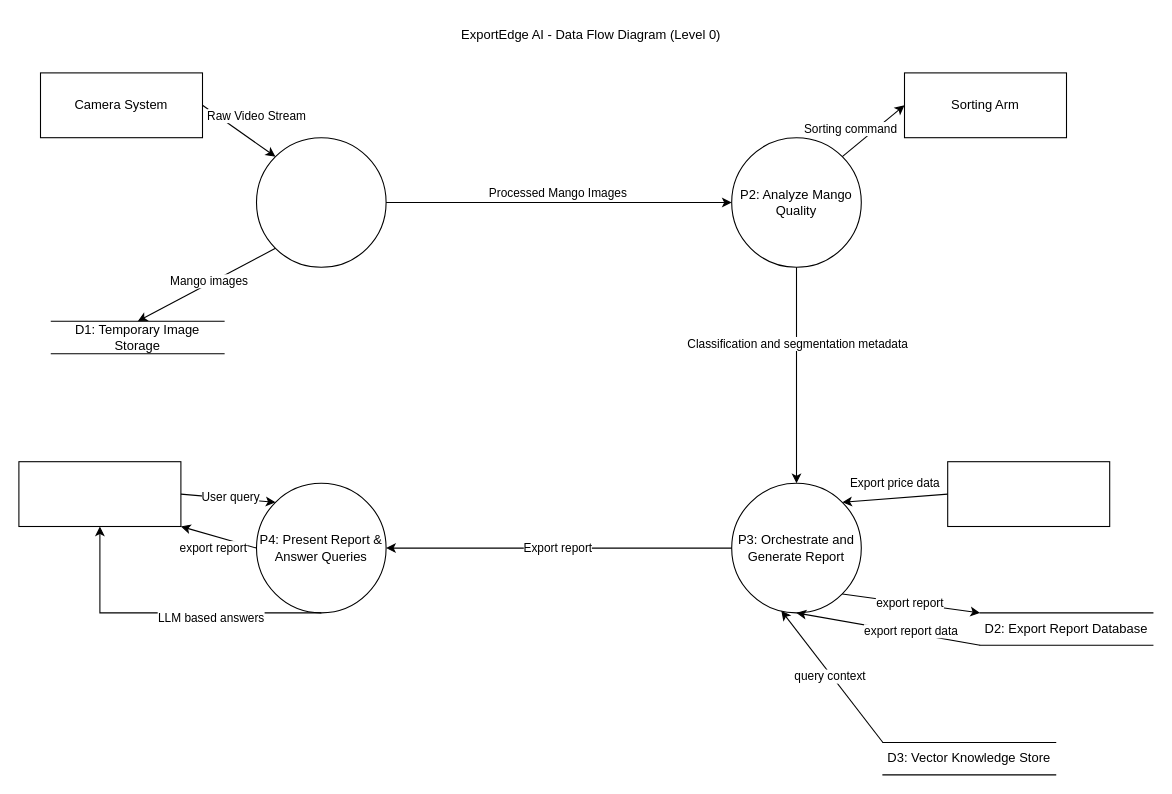
This 1172x794 diagram has some shape labels left out. The shapes that lost their labels are listed below. From the top down, each one's centre as x and y in pixels, then its label:
At point 320,202: "P1: Capture & Process Mango image data".
At point 99,493: "Exporter".
At point 1028,493: "Market Data".
